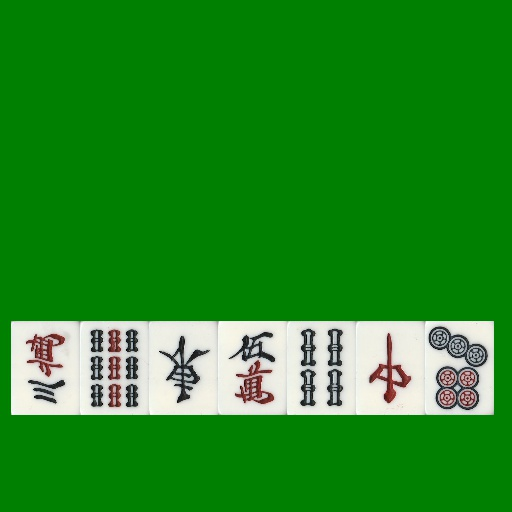3m: (11, 321, 80, 415)
4s: (287, 321, 356, 415)
5m: (218, 321, 287, 415)
7p: (425, 321, 494, 415)
9s: (80, 321, 149, 415)
east: (149, 321, 218, 415)
tyun: (356, 321, 425, 415)
